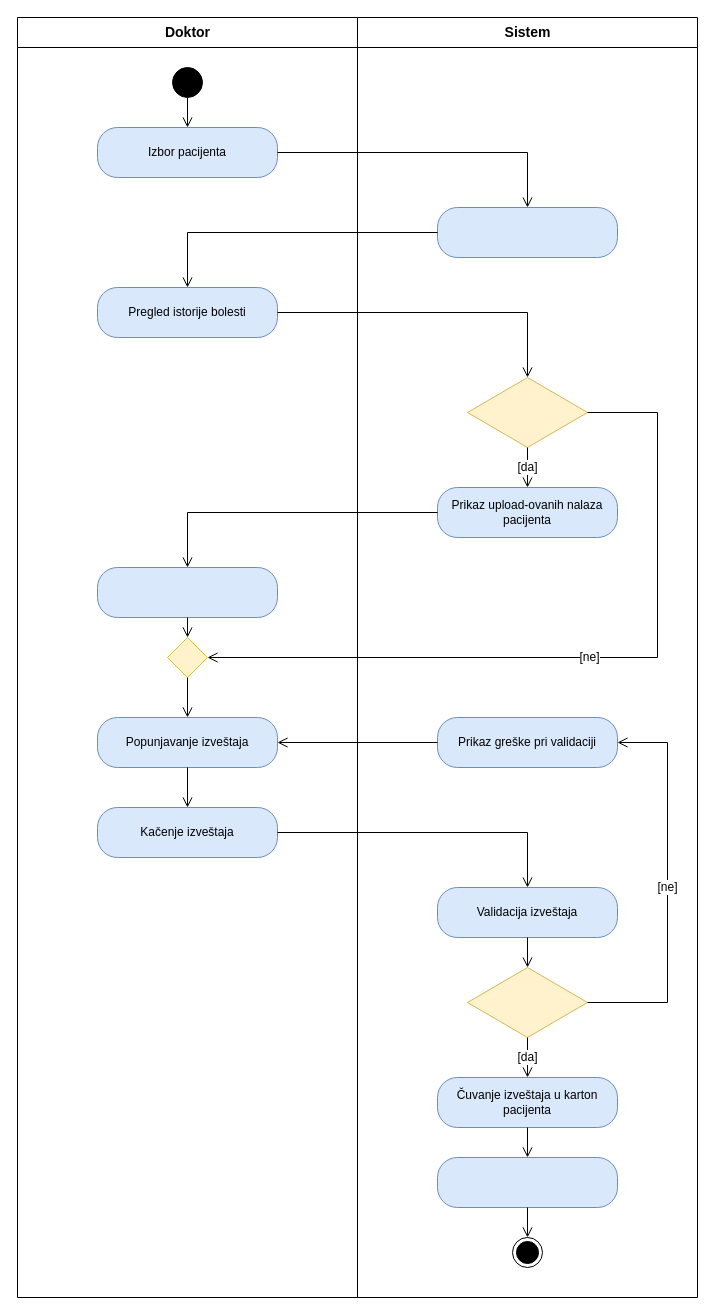
The diagram is 715 pixels wide and 1315 high, and some of its shapes have lost their labels. The centre of each missing label's shape, as x and y in pixels:
"Izveštaj ispravan?" goes at (527,1002).
"Obaveštavanje pacijenta o novom izveštaju" goes at (527,1182).
"Postoje nalazi?" goes at (527,412).
"Pregled nalaza" goes at (187,592).
"Učitavanje istorije bolesti pacijenta" goes at (527,232).
